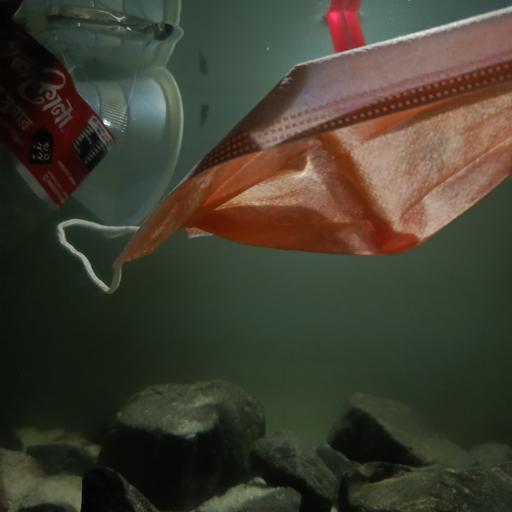mask: (57, 8, 512, 294)
plastic_bottle: (2, 24, 146, 263)
plastic_cup: (39, 66, 183, 234)
plastic_straw: (326, 7, 366, 51)
